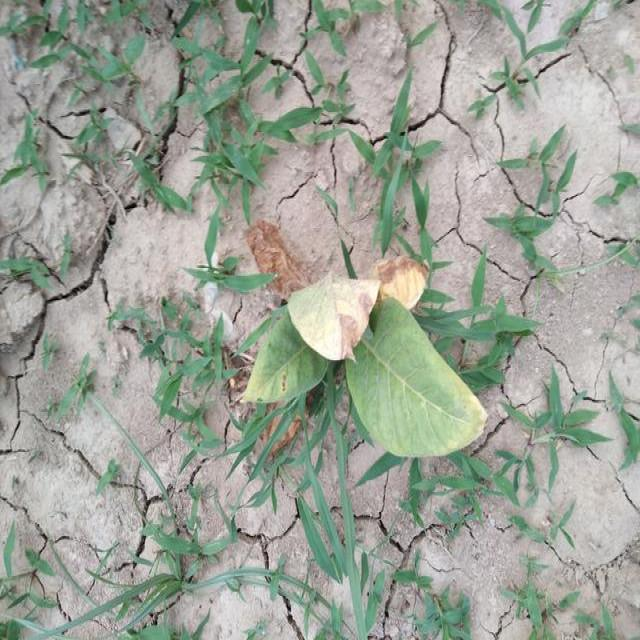crop: (241, 234, 482, 416)
